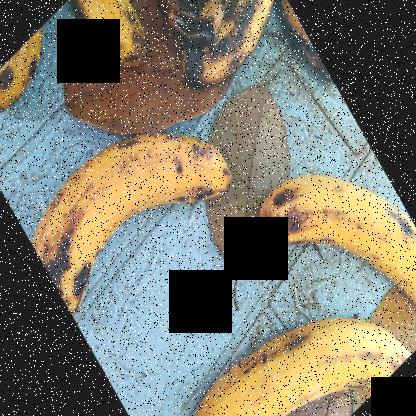overripe: (8, 109, 244, 316)
ripe: (258, 156, 416, 300), (189, 317, 408, 415)
rotten: (184, 0, 300, 93), (68, 0, 155, 74)
